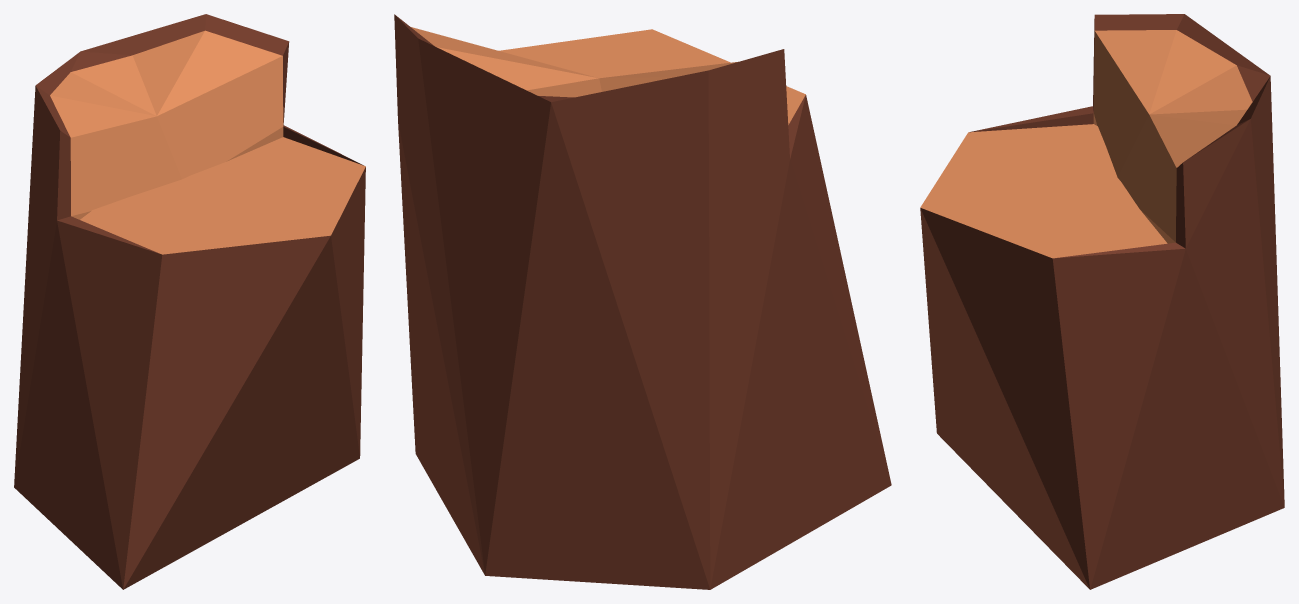
The model's file is pine_trunk_type_5_LOD2.fbx.
The picture shows the model from 3 angles, left to right: view 1: azimuth 30°, elevation 25°; view 2: azimuth 150°, elevation 25°; view 3: azimuth 270°, elevation 25°; orthographic projection. The views are drawn at different scales.
Visible parts, largest first — view 1: Cylinder.002; view 2: Cylinder.002; view 3: Cylinder.002.
Part boxes in pixels (x1,y1,x2,y2): Cylinder.002: [14, 14, 365, 589]; Cylinder.002: [394, 14, 891, 589]; Cylinder.002: [920, 14, 1284, 589].
Bounding box in the file's own units: 207 × 263 × 200.
